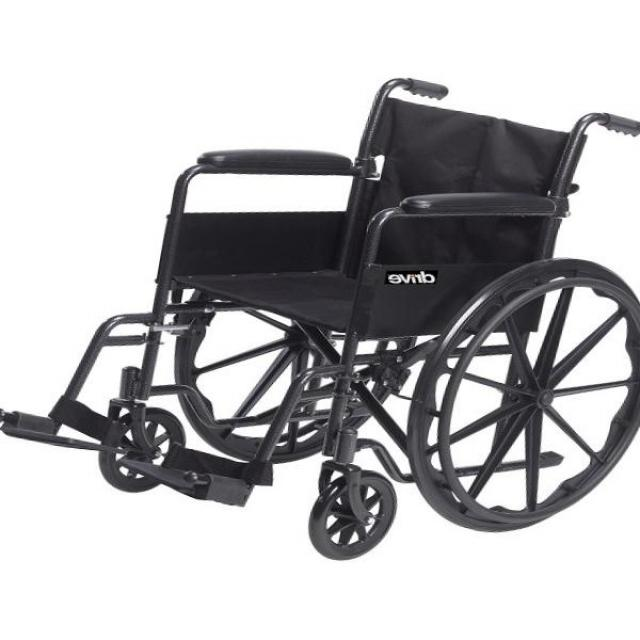wheelchair: (0, 62, 640, 564)
